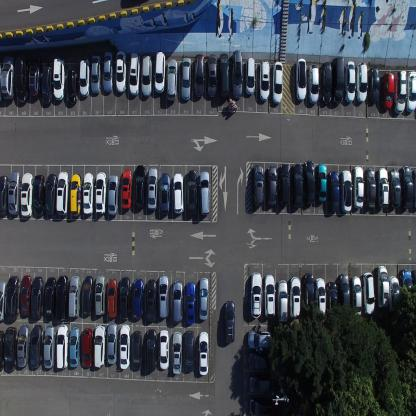car: (14, 54, 28, 103), (3, 325, 17, 373), (4, 274, 18, 322), (29, 322, 43, 369), (16, 323, 30, 369), (331, 57, 344, 106), (55, 171, 69, 216), (375, 166, 389, 210), (55, 274, 68, 320), (376, 264, 389, 310), (1, 55, 14, 101), (247, 374, 274, 396), (30, 274, 43, 319), (20, 172, 33, 217), (8, 170, 21, 215), (165, 57, 178, 102), (250, 271, 262, 319), (399, 268, 413, 309), (247, 350, 273, 372), (93, 324, 106, 368), (43, 275, 56, 319), (52, 57, 65, 101), (362, 270, 375, 314), (303, 159, 315, 206), (338, 273, 350, 320), (387, 168, 401, 208), (32, 174, 45, 217), (28, 56, 41, 99), (291, 163, 303, 209), (276, 279, 288, 325), (171, 278, 183, 324), (118, 324, 130, 370), (56, 323, 68, 369), (43, 323, 55, 369), (146, 166, 158, 212), (134, 164, 146, 210), (179, 55, 191, 101), (247, 328, 272, 350), (232, 49, 243, 99), (278, 162, 290, 207), (394, 70, 406, 115), (186, 168, 198, 213), (197, 275, 209, 320), (145, 327, 157, 372), (140, 53, 152, 98), (94, 170, 106, 215), (69, 172, 81, 217), (401, 164, 413, 209), (327, 169, 339, 213), (340, 170, 352, 214), (364, 168, 376, 212), (326, 281, 338, 325), (289, 276, 301, 320), (154, 49, 166, 93), (145, 278, 157, 322), (132, 276, 144, 320), (106, 276, 118, 320), (94, 273, 106, 317), (68, 274, 80, 318), (44, 172, 56, 216), (128, 52, 140, 96), (307, 65, 320, 105), (107, 173, 119, 216), (78, 56, 90, 99), (381, 72, 394, 111), (350, 275, 361, 321), (199, 169, 210, 215), (198, 330, 209, 376), (119, 275, 130, 321), (82, 274, 94, 316), (120, 168, 132, 210), (82, 172, 94, 214), (388, 274, 400, 316), (264, 274, 275, 319), (207, 53, 218, 98), (158, 274, 169, 319), (115, 49, 126, 94), (41, 65, 53, 106), (253, 164, 264, 208), (266, 164, 277, 208), (295, 58, 306, 102), (194, 52, 205, 96), (185, 280, 196, 324), (171, 330, 182, 374), (106, 321, 117, 365), (20, 274, 31, 318), (102, 49, 113, 93), (224, 299, 235, 343), (315, 277, 326, 320), (344, 61, 355, 104), (352, 165, 363, 208), (219, 53, 229, 100), (316, 162, 327, 204), (320, 63, 331, 105), (173, 172, 184, 214), (158, 328, 169, 370), (66, 67, 78, 105), (249, 397, 274, 415), (304, 272, 314, 316), (356, 63, 367, 103), (272, 60, 282, 104), (406, 70, 416, 114), (260, 59, 270, 102), (184, 330, 194, 373), (69, 325, 79, 368), (160, 172, 170, 214), (82, 326, 92, 368), (368, 67, 379, 105), (245, 58, 256, 96), (132, 330, 142, 371), (90, 54, 100, 95), (0, 174, 8, 217), (0, 280, 6, 322), (0, 329, 4, 372), (412, 268, 416, 310), (412, 167, 415, 209)
